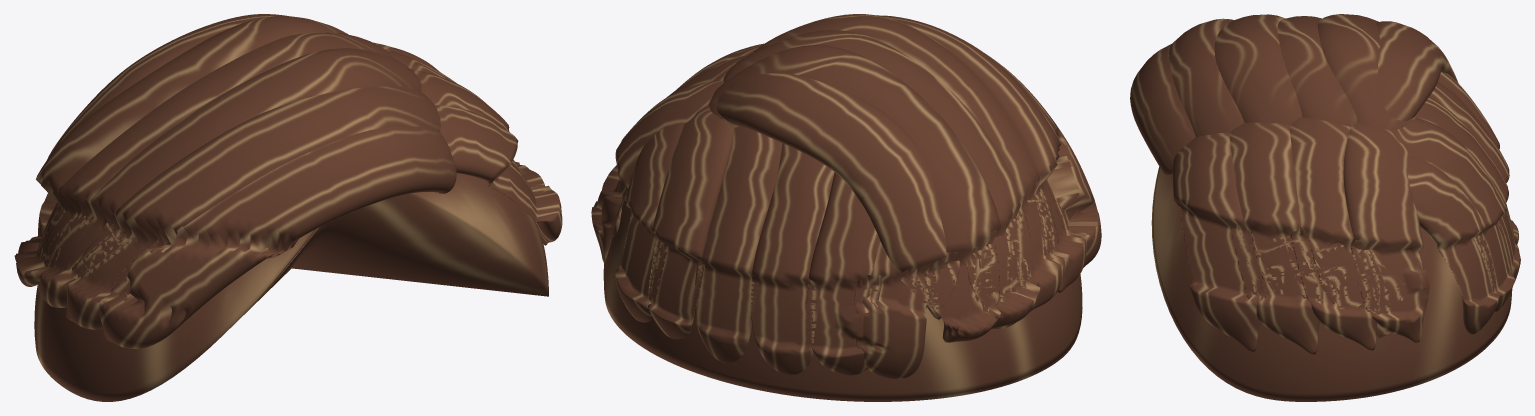
Rendered from Highlights-86894598a4e2252-hair.glb.
3 renders of one model, left to right at view 1: azimuth 30°, elevation 25°; view 2: azimuth 150°, elevation 25°; view 3: azimuth 270°, elevation 25°, orthographic. The views are drawn at different scales.
Visible parts, largest first — view 1: 226 hair / Hair / sculpted 0.002, 226 hair / Hair / sculpted 1.003, 226 hair / Hair / sculpted 1, 226 hair / Hair / sculpted 2.002; view 2: 226 hair / Hair / sculpted 1.003, 226 hair / Hair / sculpted 0.002, 226 hair / Hair / sculpted 2.002, 226 hair / Hair / sculpted 1; view 3: 226 hair / Hair / sculpted 1.003, 226 hair / Hair / sculpted 0.002, 226 hair / Hair / sculpted 2.002, 226 hair / Hair / sculpted 1.
Boxes of the visible parts, box(x1,y1,x2,y2) form: 226 hair / Hair / sculpted 0.002: box(16, 32, 562, 348); 226 hair / Hair / sculpted 1.003: box(14, 14, 544, 329); 226 hair / Hair / sculpted 1: box(34, 173, 548, 401); 226 hair / Hair / sculpted 2.002: box(40, 48, 519, 307); 226 hair / Hair / sculpted 1.003: box(612, 15, 1086, 375); 226 hair / Hair / sculpted 0.002: box(591, 30, 1101, 379); 226 hair / Hair / sculpted 2.002: box(602, 14, 1064, 375); 226 hair / Hair / sculpted 1: box(603, 198, 1082, 401); 226 hair / Hair / sculpted 1.003: box(1169, 14, 1515, 354); 226 hair / Hair / sculpted 0.002: box(1130, 16, 1520, 352); 226 hair / Hair / sculpted 2.002: box(1214, 14, 1518, 350); 226 hair / Hair / sculpted 1: box(1151, 166, 1512, 401).
Bounding box in the file's own units: 0.9751 × 0.572 × 0.7583.
4 materials, 4 textured.
